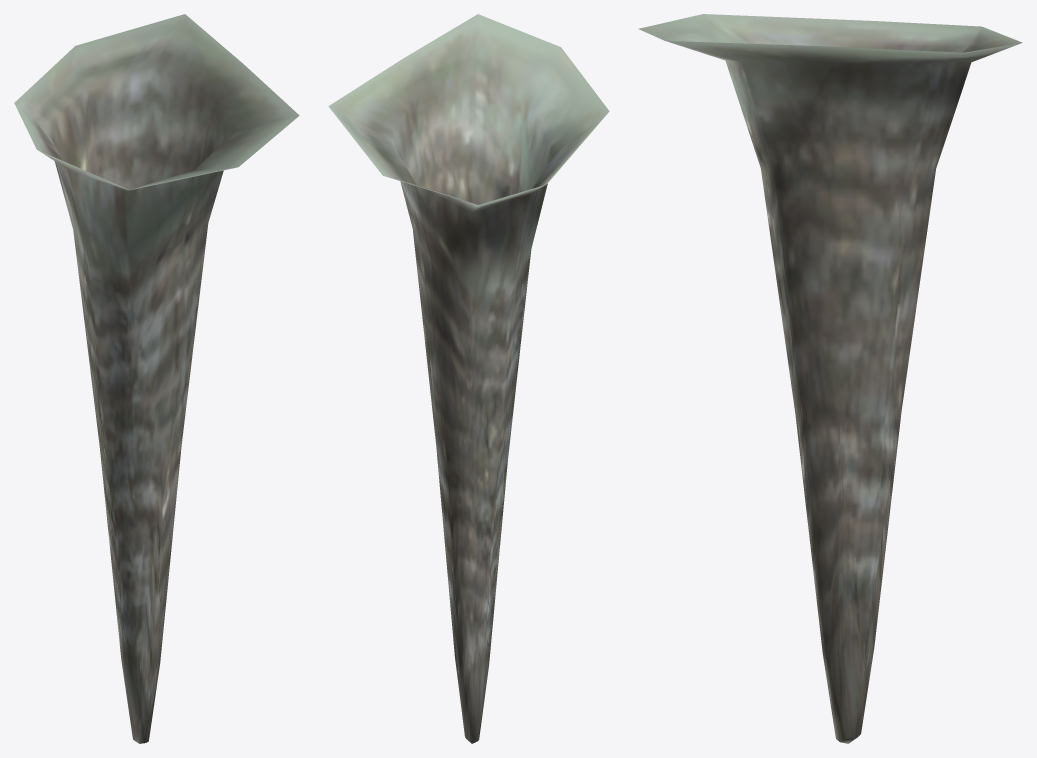
Rendered from TROLLHOLE02_PS-MAINSTALAG03.fbx.
The picture shows the model from 3 angles, left to right: view 1: azimuth 30°, elevation 25°; view 2: azimuth 150°, elevation 25°; view 3: azimuth 270°, elevation 25°; orthographic projection. The views are drawn at different scales.
Visible parts, largest first — view 1: TROLLHOLE02_PS-MAINSTALAG03; view 2: TROLLHOLE02_PS-MAINSTALAG03; view 3: TROLLHOLE02_PS-MAINSTALAG03.
Boxes of the visible parts, bbox=[...] form: TROLLHOLE02_PS-MAINSTALAG03: bbox=[14, 14, 299, 743]; TROLLHOLE02_PS-MAINSTALAG03: bbox=[328, 14, 609, 743]; TROLLHOLE02_PS-MAINSTALAG03: bbox=[638, 14, 1022, 743].
Bounding box in the file's own units: 8385 × 28829 × 13494.
1 material, 1 textured.
